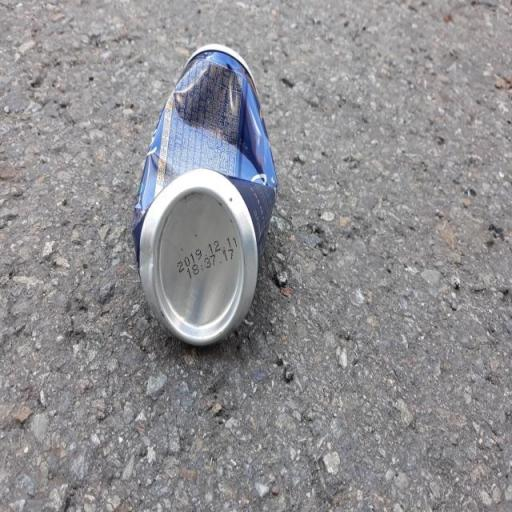metal: (124, 29, 302, 389)
